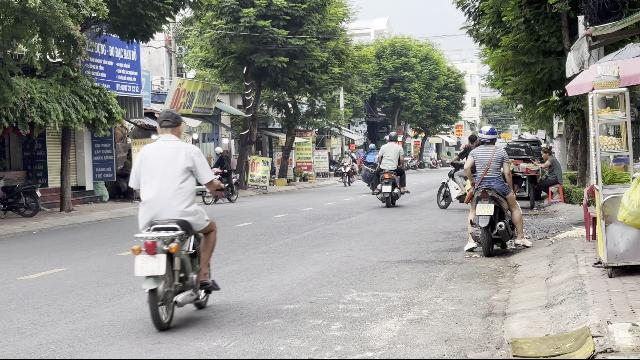helmet: (477, 126, 497, 144)
licenseplate: (134, 254, 166, 276), (476, 204, 494, 214)
motorcyclist: (126, 108, 222, 328), (460, 124, 526, 256)
nohelmet: (155, 109, 185, 139)
